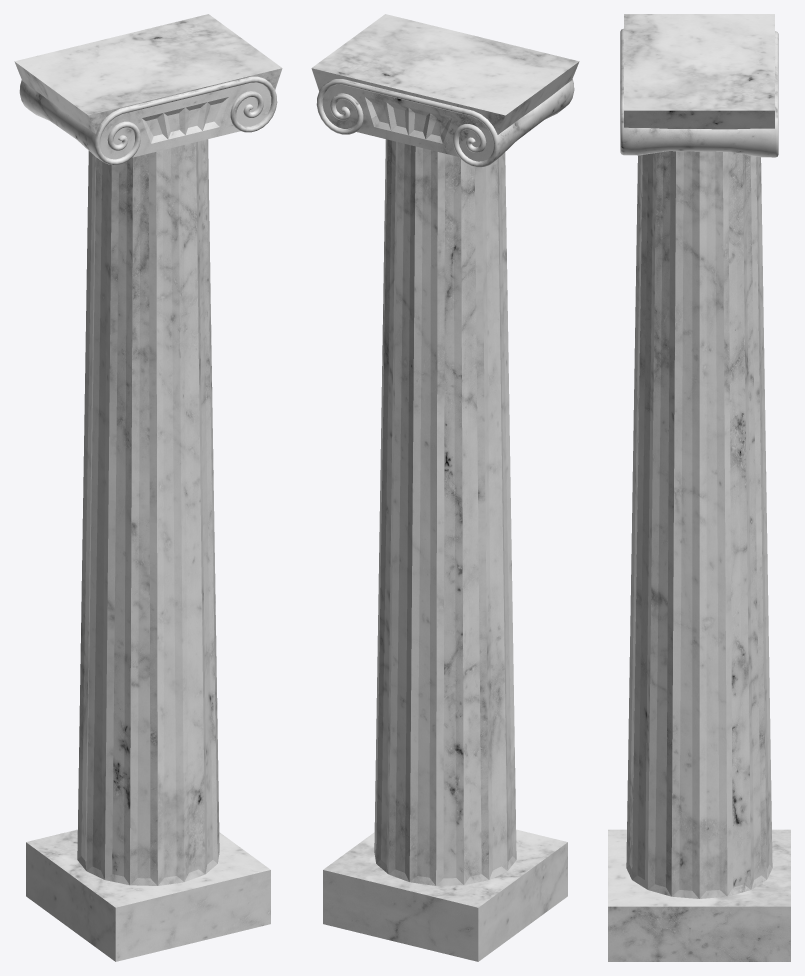
Rendered from ColonneIoniqueSimple.fbx.
The picture shows the model from 3 angles, left to right: view 1: azimuth 30°, elevation 25°; view 2: azimuth 150°, elevation 25°; view 3: azimuth 270°, elevation 25°; orthographic projection.
Visible parts, largest first — view 1: colonne; view 2: colonne; view 3: colonne.
Boxes of the visible parts, x1=… form: colonne: x1=14, y1=14, x2=282, y2=961; colonne: x1=311, y1=14, x2=579, y2=961; colonne: x1=608, y1=14, x2=790, y2=961.
Bounding box in the file's own units: 300 × 1248 × 240.
